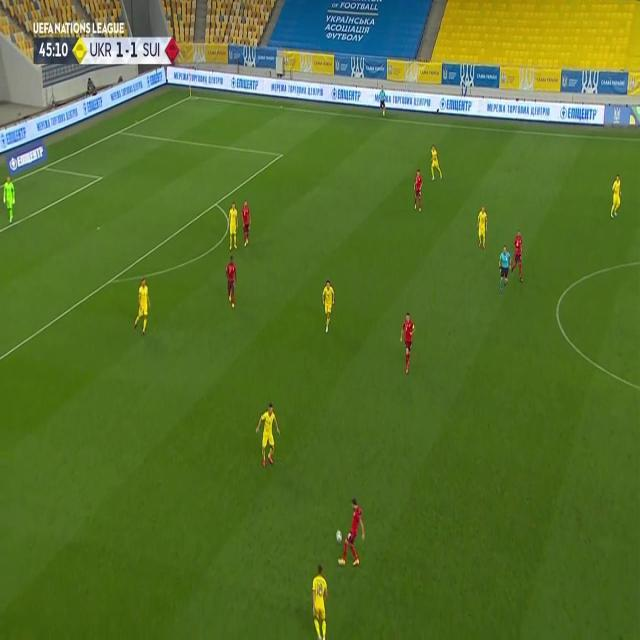player: (338, 497, 366, 567), (256, 402, 282, 468), (311, 563, 330, 640), (400, 310, 416, 377), (132, 277, 150, 335), (321, 279, 335, 335), (498, 244, 512, 296), (2, 175, 16, 225), (513, 229, 525, 283), (609, 175, 623, 221), (226, 202, 238, 253), (226, 255, 237, 310), (240, 199, 252, 247), (429, 144, 443, 182), (476, 204, 488, 248), (412, 167, 423, 213), (378, 85, 386, 118)
